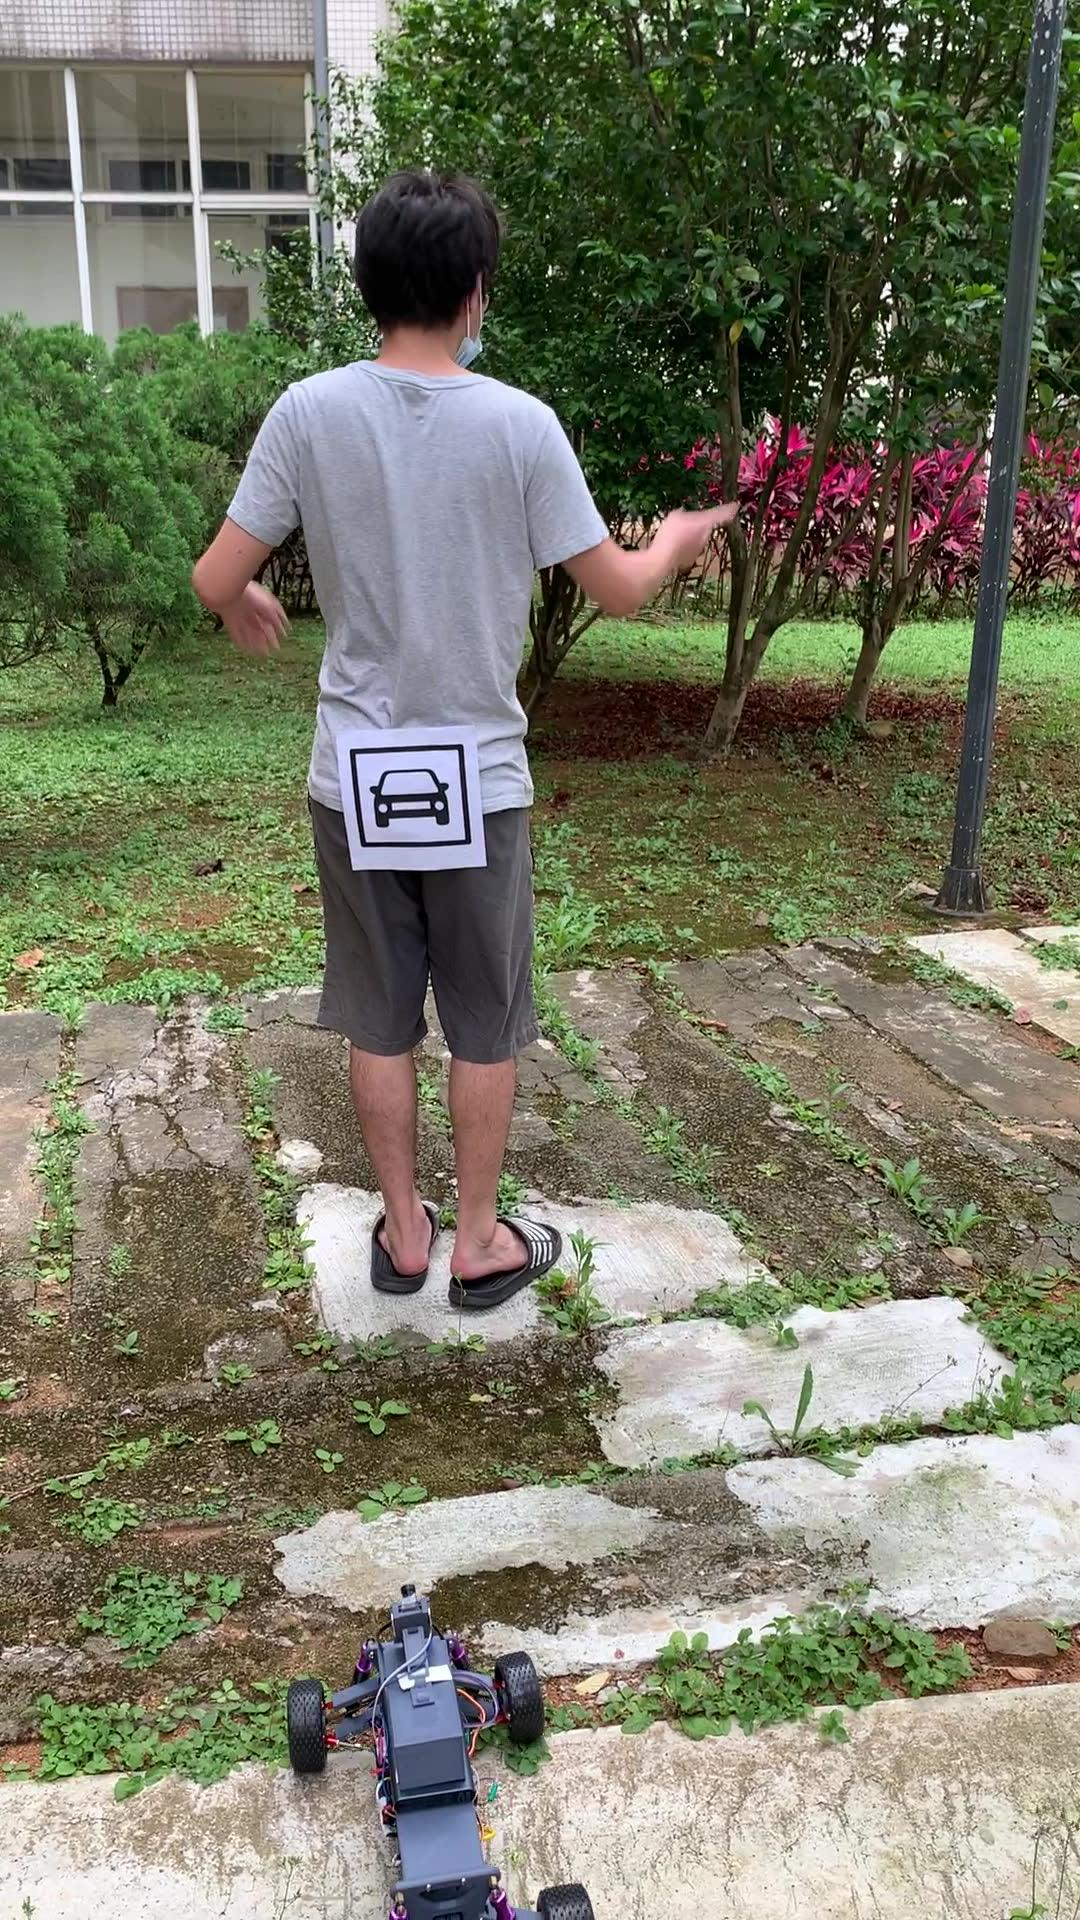car_img: (348, 742, 472, 848)
